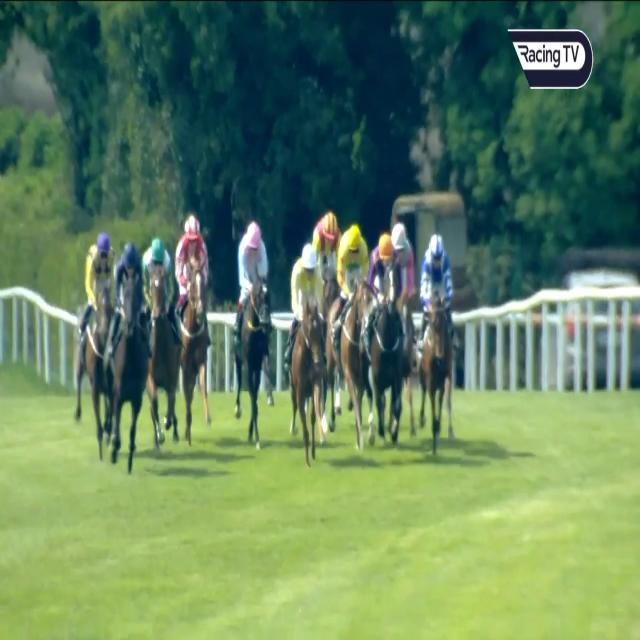horses-racing: (234, 217, 274, 454), (288, 240, 328, 468), (142, 233, 182, 458), (333, 212, 372, 442), (174, 209, 209, 436), (111, 241, 144, 461), (420, 230, 453, 450), (83, 228, 114, 451), (369, 234, 398, 459), (308, 203, 340, 308), (388, 224, 414, 292)
